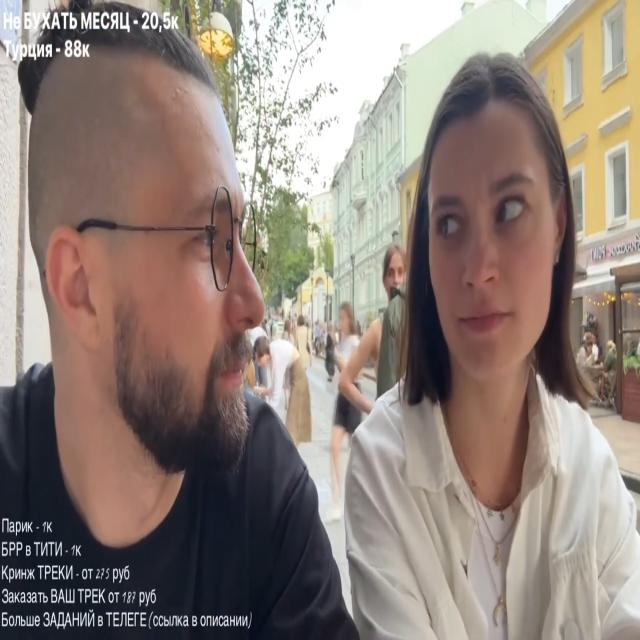Person: (0, 12, 391, 637), (334, 66, 640, 638), (242, 336, 276, 410)
